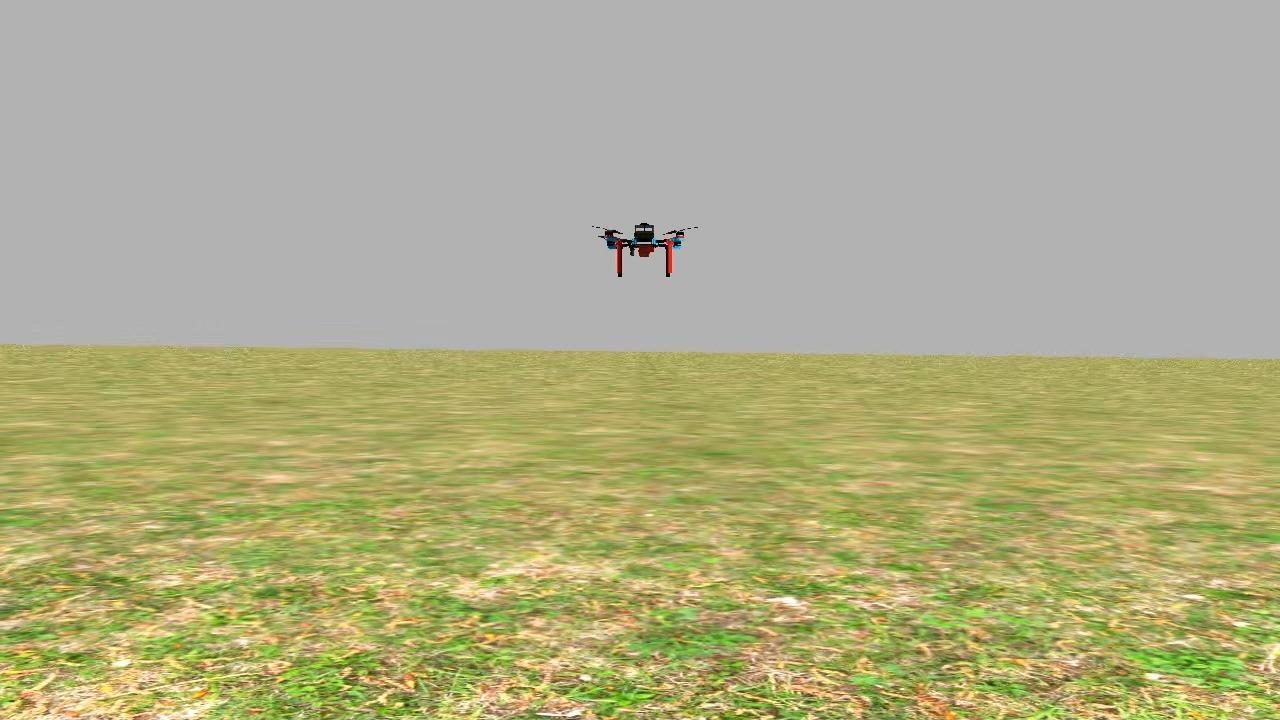UAV: (588, 216, 698, 288)
